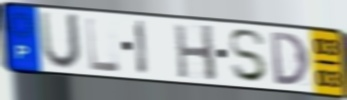D: (268, 30, 312, 87)
H: (172, 23, 219, 84)
I: (133, 18, 150, 78)
L: (84, 15, 123, 74)
S: (227, 28, 270, 85)
U: (37, 9, 83, 72)
